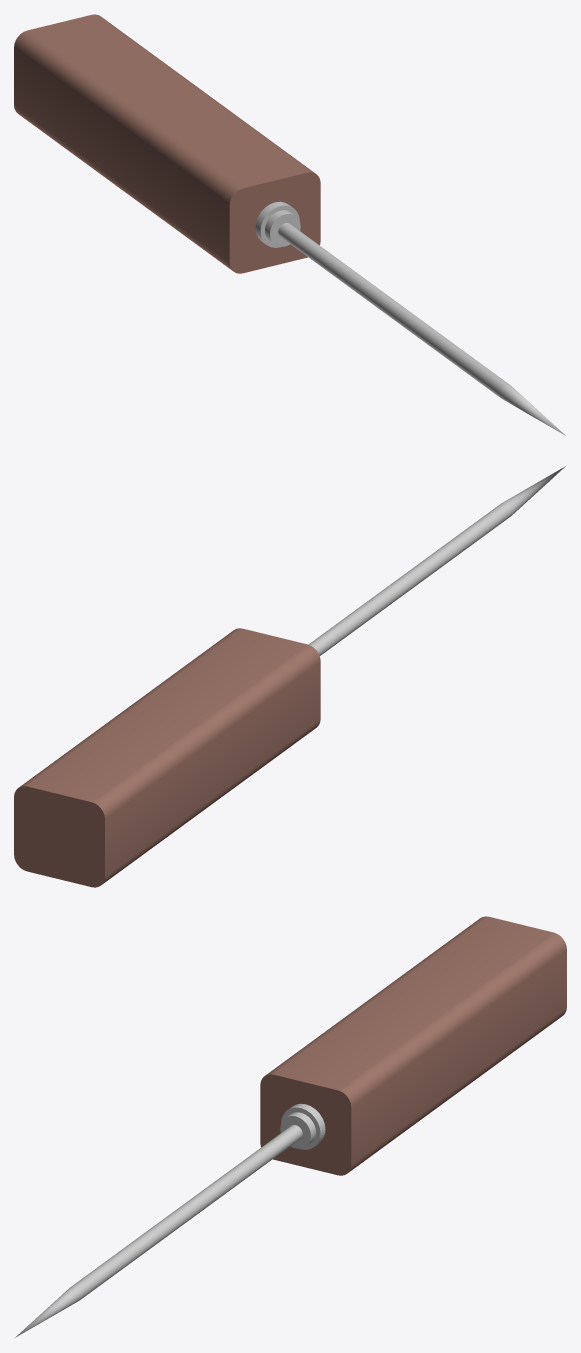
3 renders of one model, top to bottom at view 1: azimuth 30°, elevation 25°; view 2: azimuth 150°, elevation 25°; view 3: azimuth 330°, elevation 25°, orthographic.
Visible parts, largest first — view 1: handle, spike, collar_base; view 2: handle, spike; view 3: handle, spike, collar_base.
Part boxes in pixels (x1,y1,x2,y2): handle: [14, 14, 320, 273]; spike: [278, 223, 565, 435]; collar_base: [255, 201, 300, 247]; handle: [14, 628, 320, 887]; spike: [308, 466, 565, 655]; handle: [260, 916, 566, 1175]; spike: [15, 1125, 302, 1337]; collar_base: [280, 1103, 325, 1149].
Size of the model in its own units: 0.0207 by 0.0185 by 0.2.
